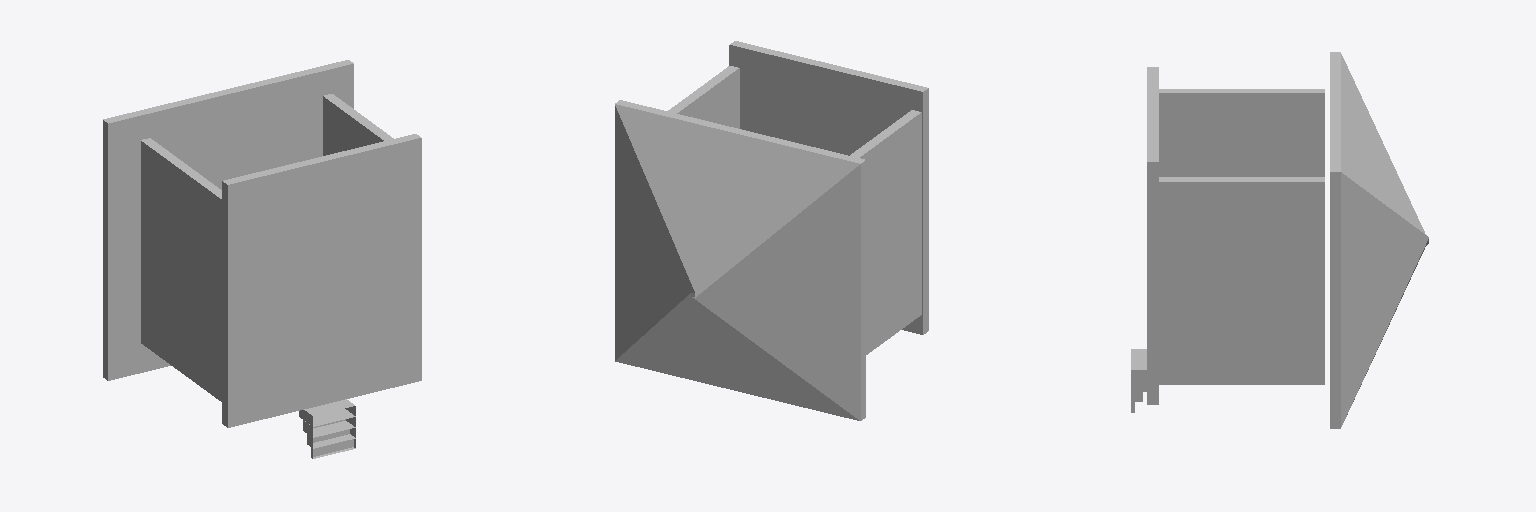
The model's file is stair4.obj.
The picture shows the model from 3 angles: view 1: azimuth 30°, elevation 25°; view 2: azimuth 150°, elevation 25°; view 3: azimuth 270°, elevation 25°; orthographic projection.
Visible parts, largest first — view 1: Cube, Cube.003, Cube.002, Cube.001, Cube.004, Cube.006, Cube.007; view 2: Cube.003, Cube, Cube.002, Cube.001; view 3: Cube.001, Cube.003, Cube.002, Cube.
Part boxes in pixels (x1,y1,x2,y2): Cube: (222, 134, 421, 427); Cube.003: (103, 60, 353, 380); Cube.002: (141, 138, 221, 401); Cube.001: (323, 94, 393, 155); Cube.004: (299, 399, 355, 426); Cube.006: (307, 423, 355, 448); Cube.007: (311, 436, 355, 458); Cube.003: (615, 100, 865, 420); Cube: (729, 41, 928, 334); Cube.002: (850, 110, 921, 354); Cube.001: (668, 66, 739, 128); Cube.001: (1159, 177, 1324, 384); Cube.003: (1330, 52, 1428, 428); Cube.002: (1159, 89, 1324, 176); Cube: (1147, 67, 1158, 404).
Bounding box in the file's own units: 2.54 × 2.85 × 2.67.